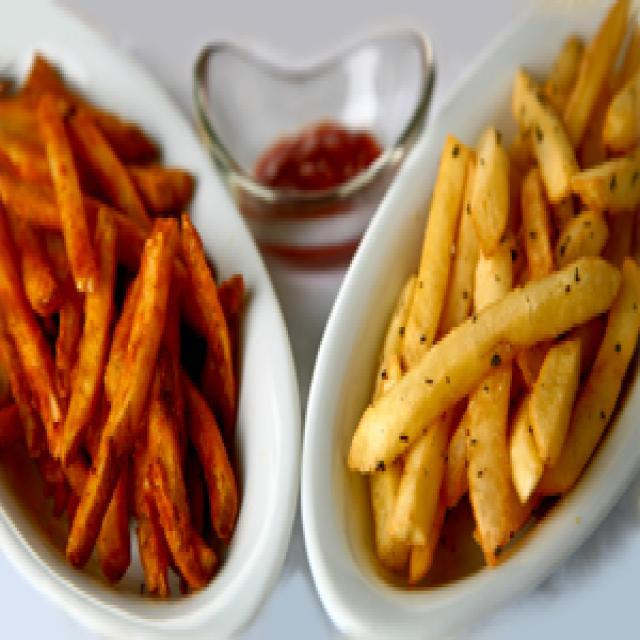French Fries: (393, 41, 634, 571)
